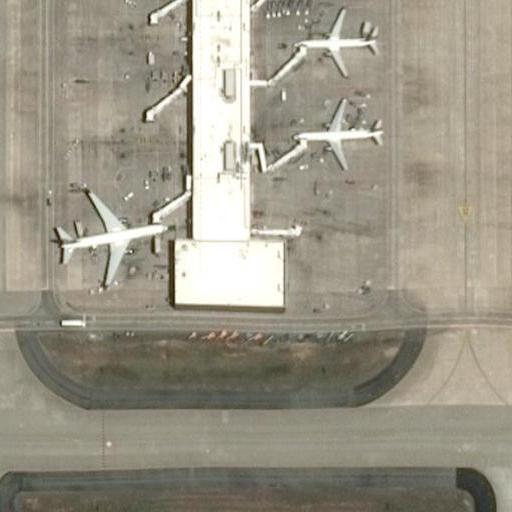Aircraft: (44, 185, 167, 278), (294, 1, 383, 83), (288, 96, 385, 171), (0, 34, 7, 140)
